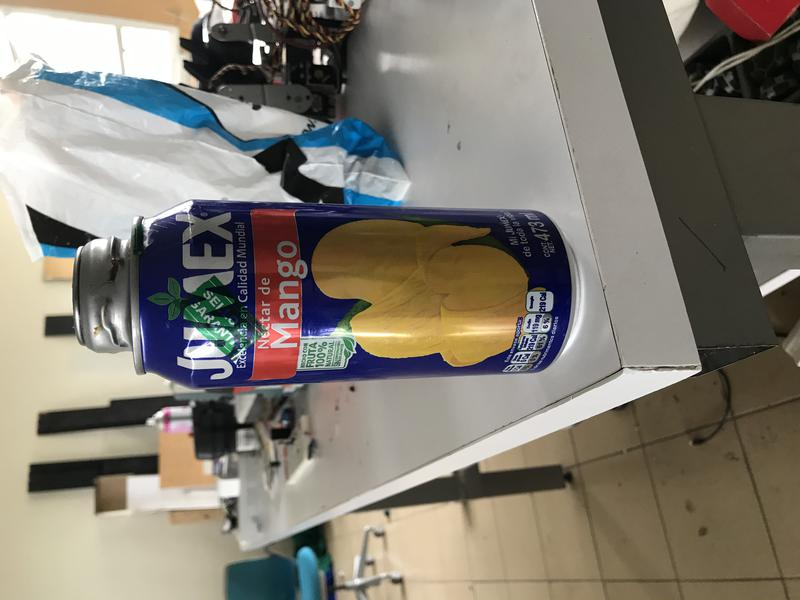jumex_botella: (73, 199, 581, 390)
